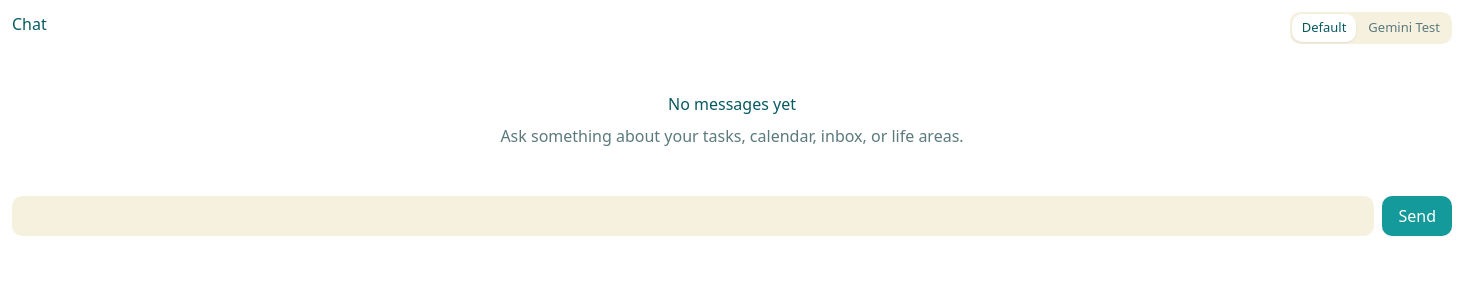
Scenario: ChatPage › shows the backend's own deterministic degradation message for a model failure (Checkpoint 5.1)
Check: the heading "No messages yet" is shown, box [668,92,796,116]
Step 1. Type "hi" into the field named "Chat message" → [693, 216], box [12,196,1374,236]
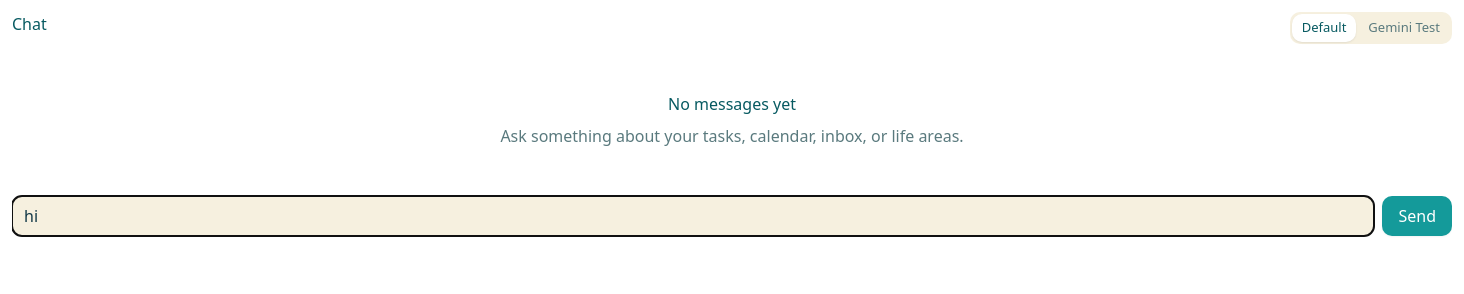
Step 2. Click the button "Send" → [1417, 216], box [1382,196,1452,236]
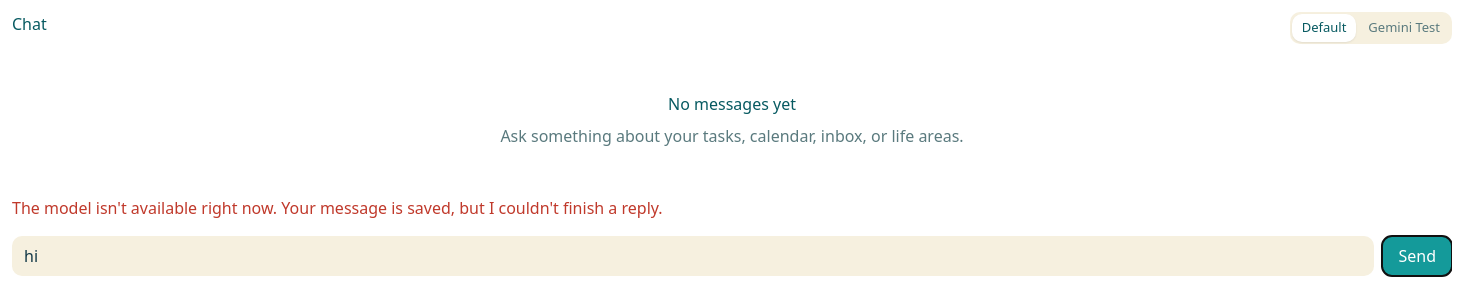
Check: the message shows "The model isn't available right now. Your message is saved, but I couldn't finish a reply.", box [12,196,663,218]
